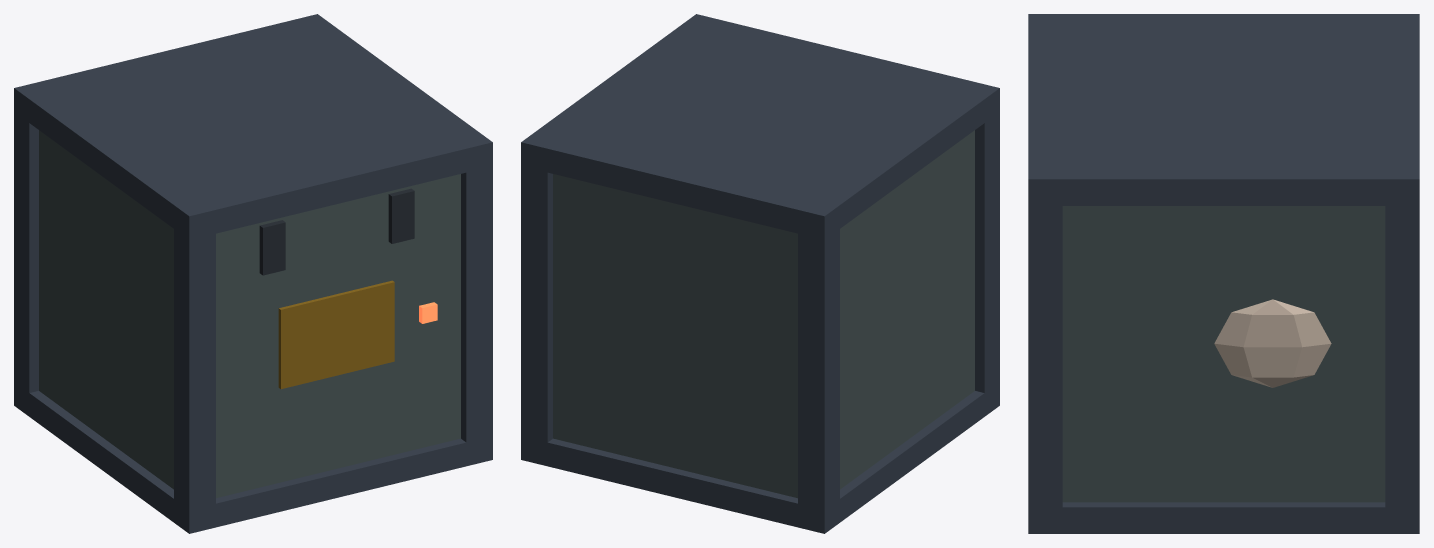
File: Lab_Crate.fbx
The picture shows the model from 3 angles, left to right: view 1: azimuth 30°, elevation 25°; view 2: azimuth 150°, elevation 25°; view 3: azimuth 270°, elevation 25°; orthographic projection. The views are drawn at different scales.
Visible parts, largest first — view 1: Lab_Crate; view 2: Lab_Crate; view 3: Lab_Crate.
Boxes of the visible parts, x1,y1,x2,y2 form: Lab_Crate: [14, 14, 492, 533]; Lab_Crate: [521, 14, 999, 533]; Lab_Crate: [1028, 14, 1419, 533].
Bounding box in the file's own units: 0.8 × 0.8 × 0.8.
